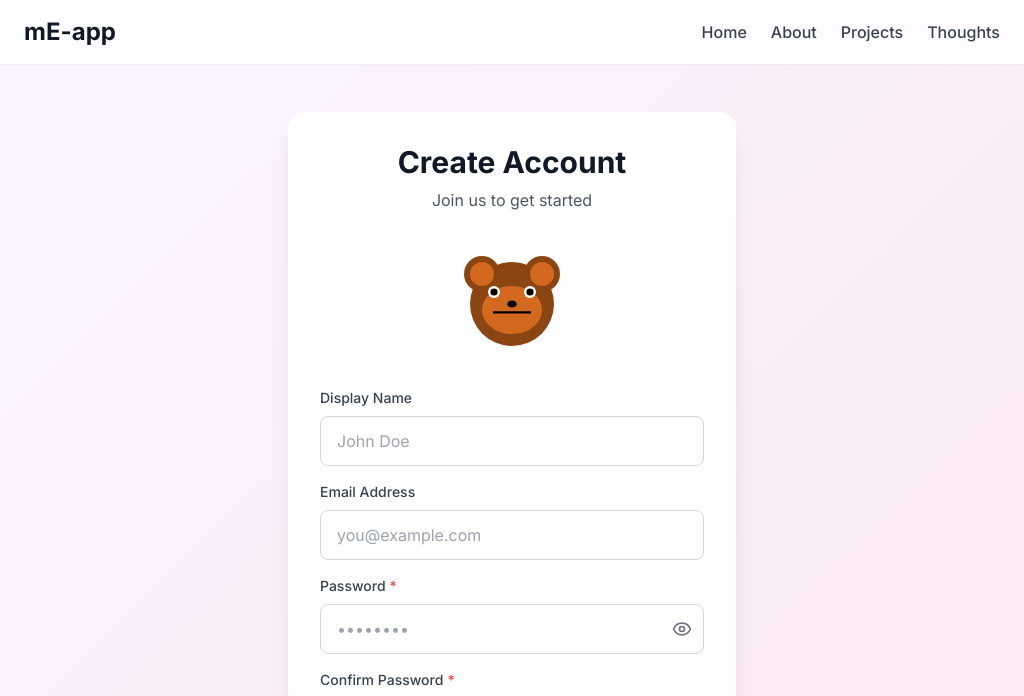
it: Register Page › should validate display name
The image size is (1024, 696).
Click the field labelled "Display Name" at (512, 441), box [320, 416, 704, 466]
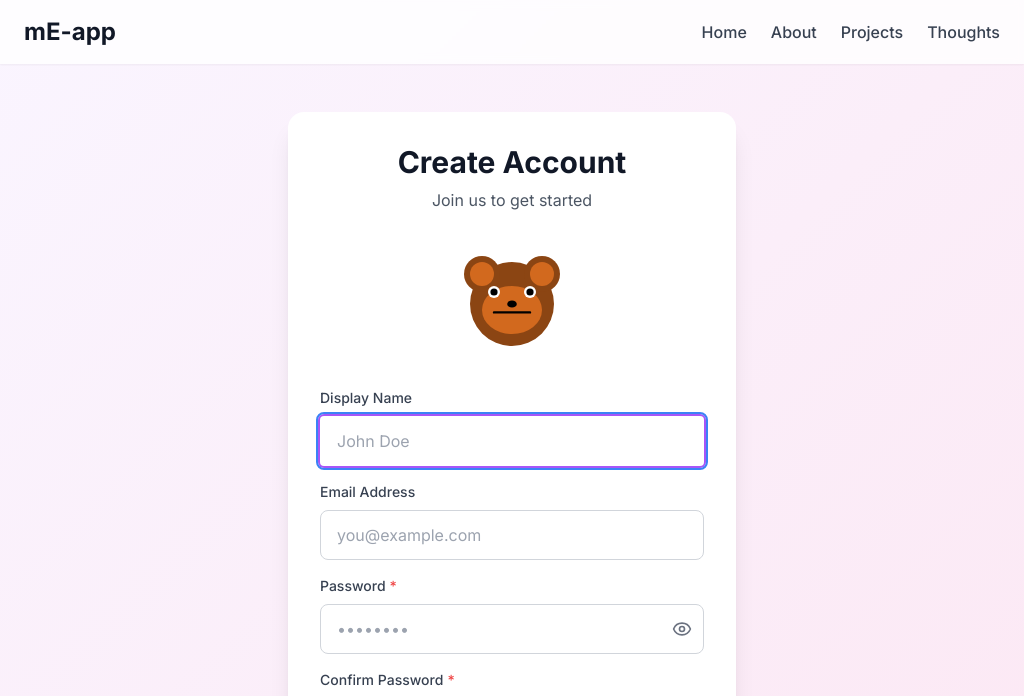
Press Tab
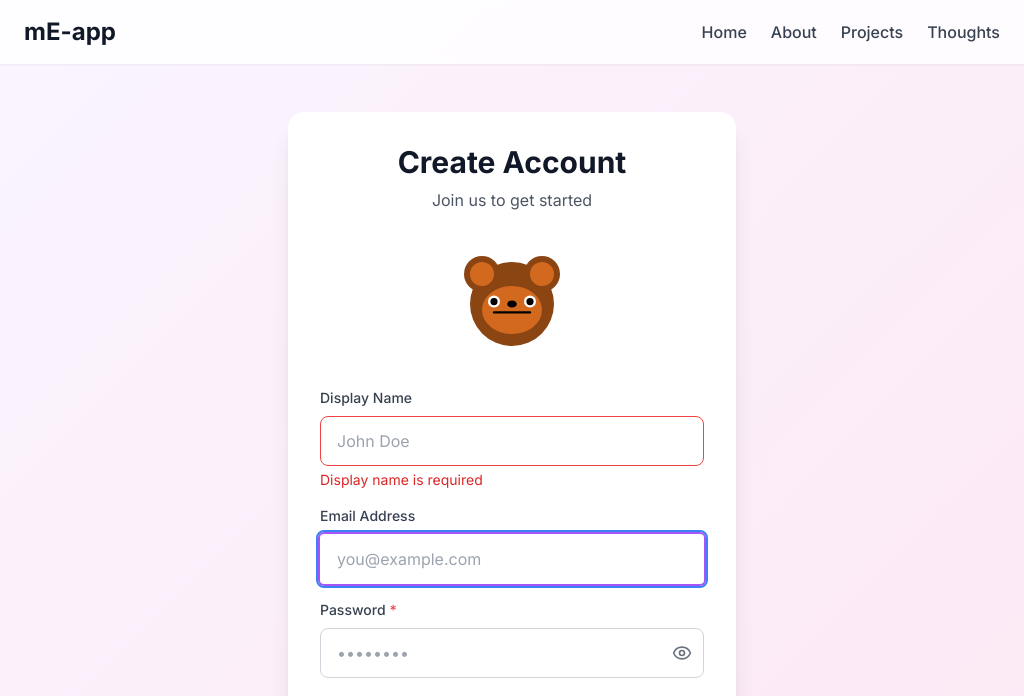
Check: the text "Display name is required" is shown, box [320, 471, 483, 488]
